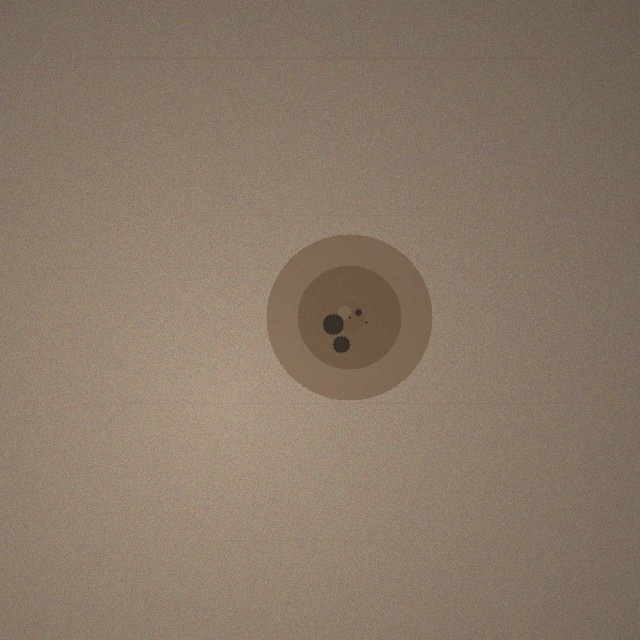shrinkage: (266, 234, 432, 400)
